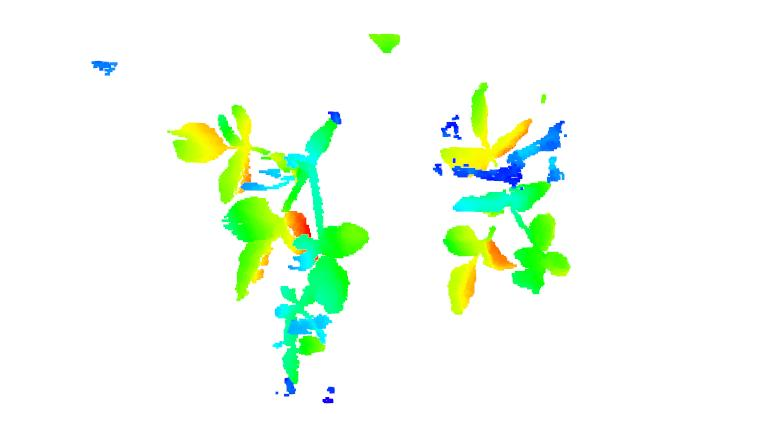mungbean: (164, 100, 365, 313), (440, 80, 572, 312), (260, 285, 339, 392)
